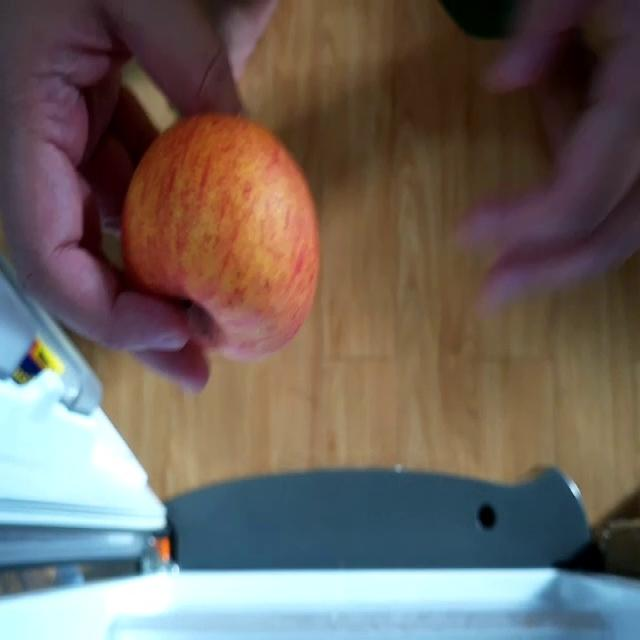apple: (111, 119, 316, 356)
